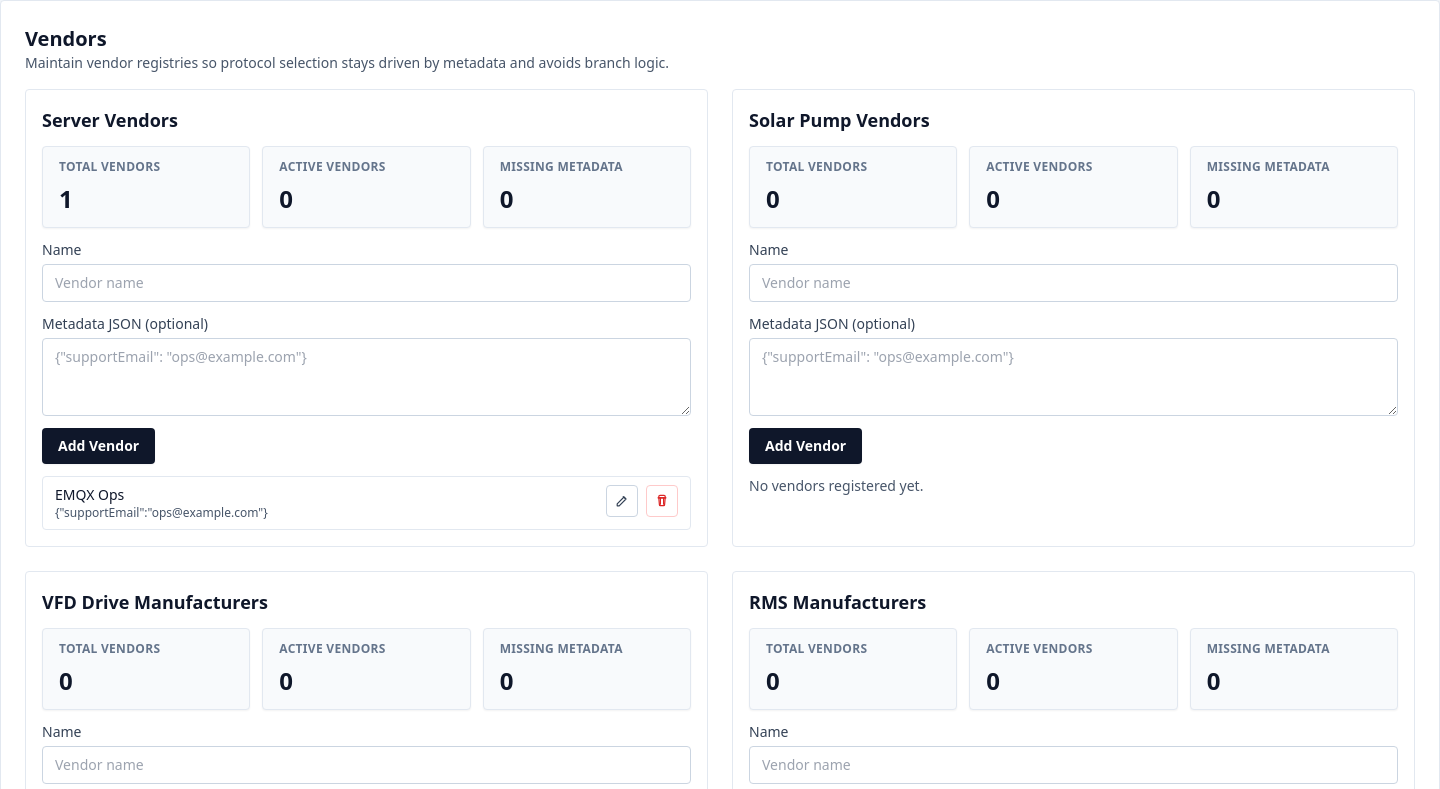
Test case: VendorsSection › deletes a vendor after confirmation
Expected: the heading "Vendors" is shown, [25,25,107,52]
Click the button named "Delete". click: (662, 501)
box: [646,485,678,517]
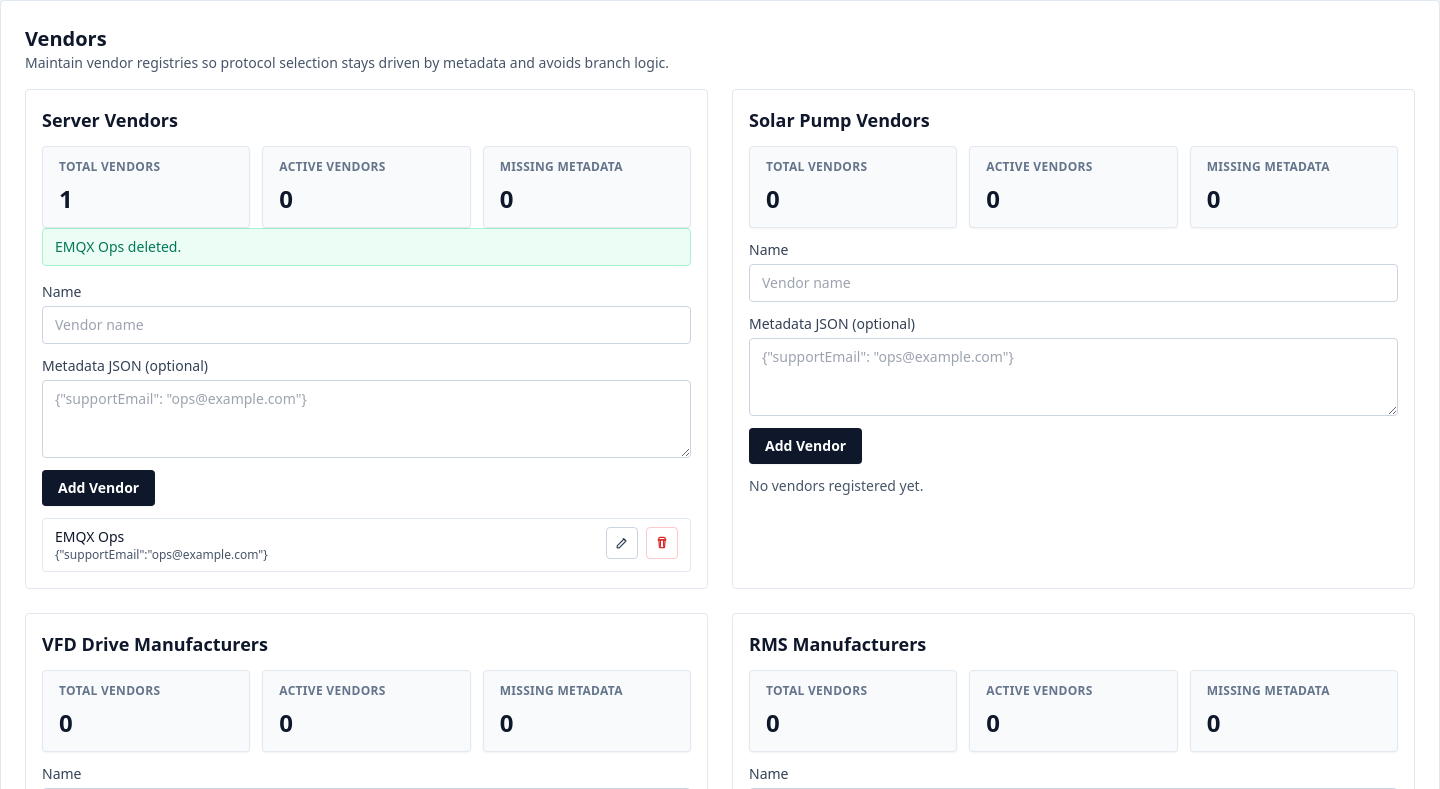
Now the text "EMQX Ops deleted." is shown, box [42,228,691,266]
